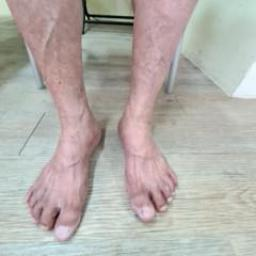Dorsal View -Both Feet-: (12, 70, 199, 248)
